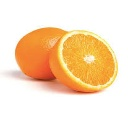orange: (12, 25, 58, 81)
